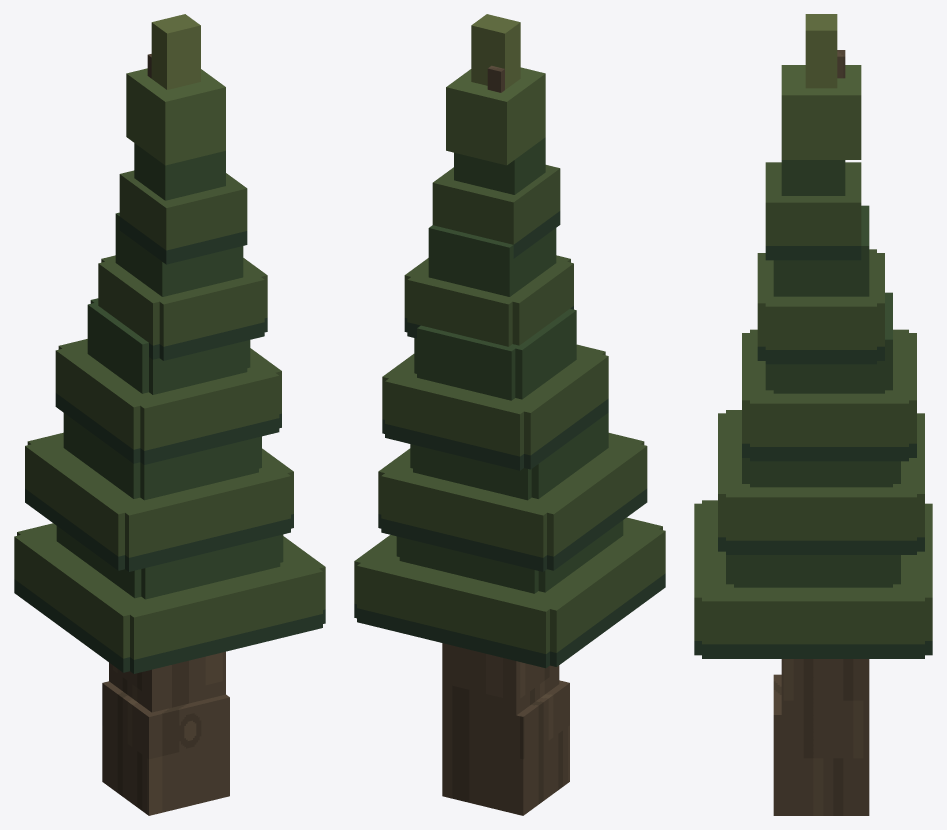
File: pine_ancient_2.glb
The picture shows the model from 3 angles, left to right: view 1: azimuth 30°, elevation 25°; view 2: azimuth 150°, elevation 25°; view 3: azimuth 270°, elevation 25°; orthographic projection. The views are drawn at different scales.
Visible parts, largest first — view 1: VoxelVisual; view 2: VoxelVisual; view 3: VoxelVisual.
Boxes of the visible parts, x1,y1,x2,y2 form: VoxelVisual: (14, 14, 325, 815); VoxelVisual: (354, 14, 665, 815); VoxelVisual: (694, 14, 932, 815).
Size of what is drawn, in the model's own units: 7.5 by 27 by 7.5.
